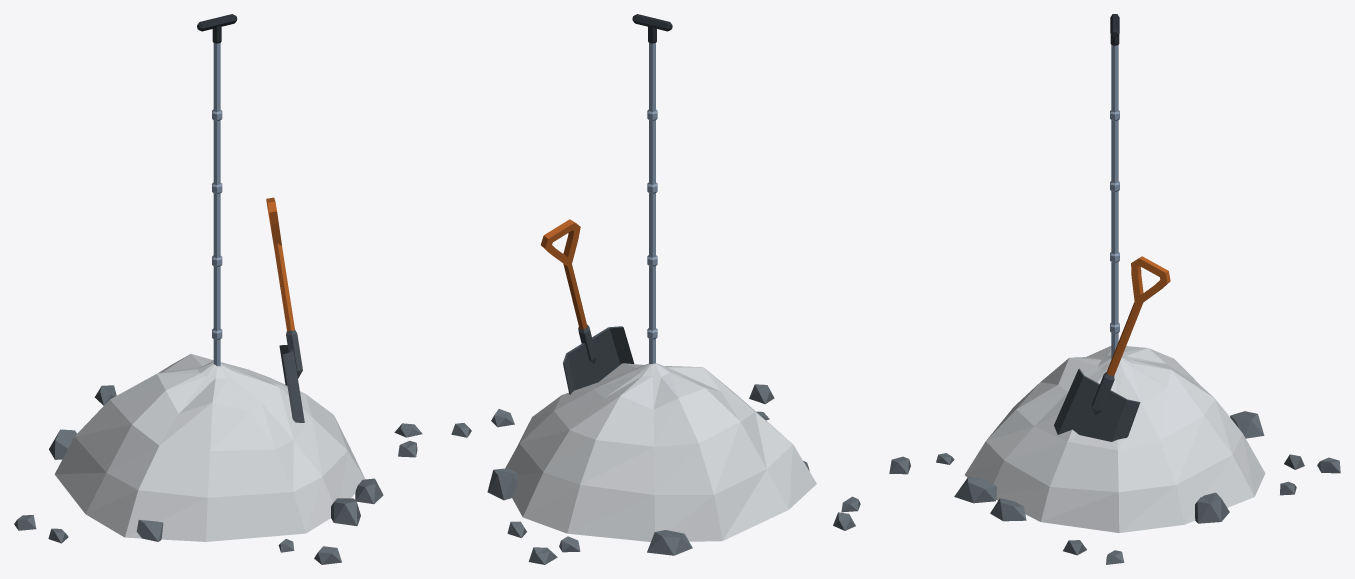
The model's file is probe-and-shovel-set-06d115.glb.
3 renders of one model, left to right at view 1: azimuth 30°, elevation 25°; view 2: azimuth 150°, elevation 25°; view 3: azimuth 270°, elevation 25°, orthographic. The views are drawn at different scales.
Parts seen in each view (by area): view 1: set-snow-and-stones, probe-mesh, shovel-mesh; view 2: set-snow-and-stones, shovel-mesh, probe-mesh; view 3: set-snow-and-stones, shovel-mesh, probe-mesh.
Boxes of the visible parts, bbox=[...] form: set-snow-and-stones: bbox=[14, 354, 422, 564]; probe-mesh: bbox=[197, 14, 237, 366]; shovel-mesh: bbox=[266, 197, 304, 422]; set-snow-and-stones: bbox=[451, 363, 860, 564]; shovel-mesh: bbox=[541, 219, 634, 394]; probe-mesh: bbox=[632, 14, 672, 364]; set-snow-and-stones: bbox=[889, 346, 1340, 564]; shovel-mesh: bbox=[1054, 256, 1170, 441]; probe-mesh: bbox=[1110, 14, 1119, 358].
Bounding box in the file's own units: 1.5 × 1.64 × 1.5.
